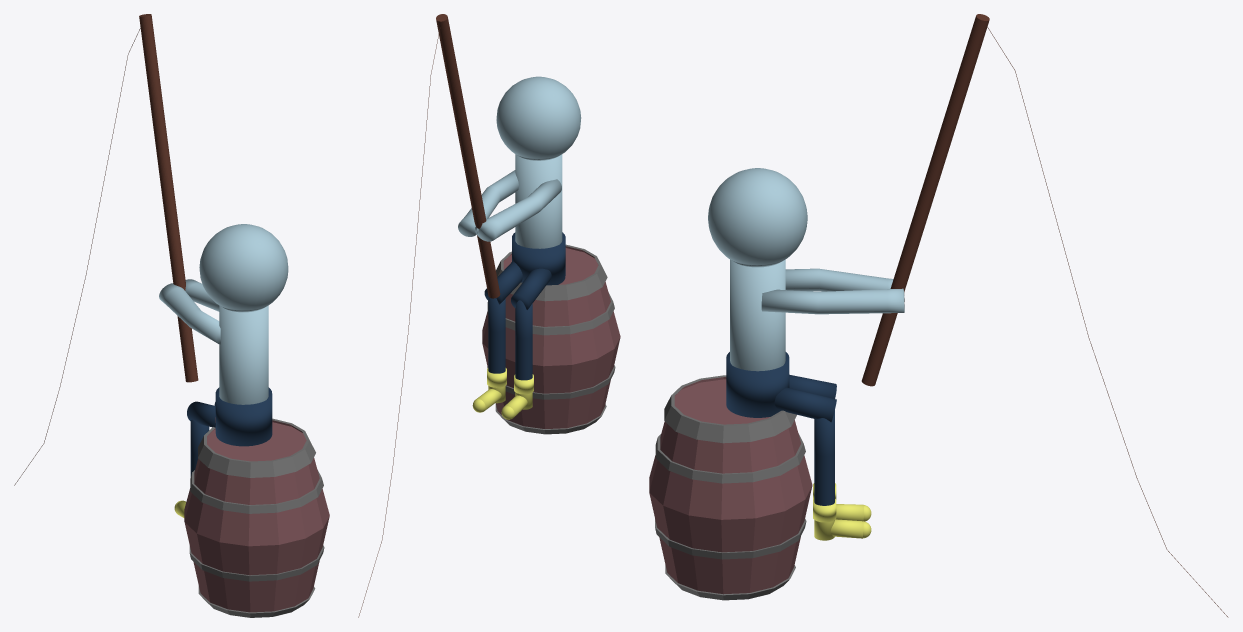
File: Peter.fbx
3 views of the same model, side by side, from view 1: azimuth 30°, elevation 25°; view 2: azimuth 150°, elevation 25°; view 3: azimuth 270°, elevation 25° (orthographic). The views are drawn at different scales.
Visible parts, largest first — view 1: Cylinder, Cylinder.001; view 2: Cylinder, Cylinder.001; view 3: Cylinder, Cylinder.001.
Boxes of the visible parts, <box> form: Cylinder: <box>159,224,329,617</box>; Cylinder.001: <box>14,14,198,485</box>; Cylinder: <box>458,76,620,434</box>; Cylinder.001: <box>358,14,500,617</box>; Cylinder: <box>649,168,904,600</box>; Cylinder.001: <box>861,14,1228,617</box>.
Size of the model in its own units: 241 by 995 by 851.
